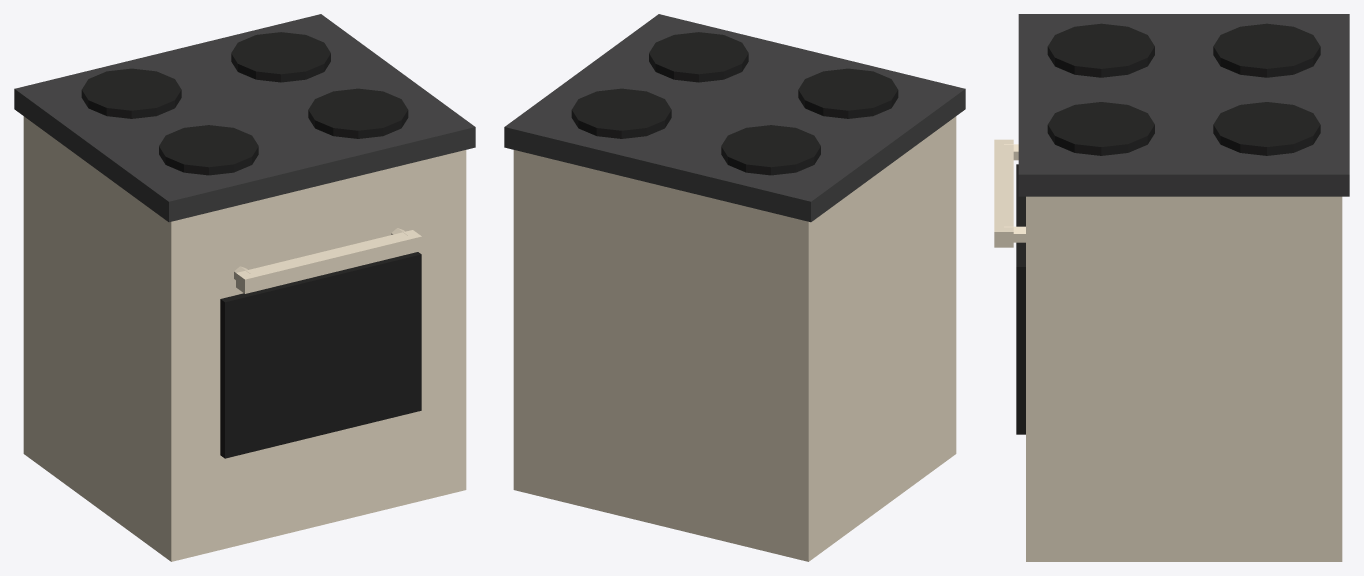
3 views of the same model, side by side, from view 1: azimuth 30°, elevation 25°; view 2: azimuth 150°, elevation 25°; view 3: azimuth 270°, elevation 25° (orthographic). The views are drawn at different scales.
Parts seen in each view (by area): view 1: Stove, Hob, Oven window, Door handle, Burner.001, Burner.002, Burner, Burner.003; view 2: Stove, Hob, Burner, Burner.003, Burner.001, Burner.002; view 3: Stove, Hob, Burner.001, Burner.002, Burner, Burner.003, Oven window, Door handle.
Part boxes in pixels (x1,y1,x2,y2): Stove: (23, 116, 466, 561); Hob: (14, 14, 475, 222); Oven window: (220, 252, 421, 458); Door handle: (236, 230, 421, 293); Burner.001: (81, 68, 181, 118); Burner.002: (308, 88, 408, 138); Burner: (159, 125, 258, 175); Burner.003: (231, 32, 330, 82); Stove: (513, 116, 956, 561); Hob: (504, 14, 965, 222); Burner: (798, 68, 898, 118); Burner.003: (571, 88, 671, 138); Burner.001: (721, 125, 820, 175); Burner.002: (649, 32, 748, 82); Stove: (1026, 196, 1342, 561); Hob: (1018, 14, 1349, 196); Burner.001: (1213, 23, 1320, 77); Burner.002: (1047, 102, 1154, 155); Burner: (1047, 23, 1154, 77); Burner.003: (1213, 102, 1320, 155); Oven window: (1016, 164, 1025, 434); Door handle: (994, 139, 1013, 247).
Size of the model in its own units: 78 by 90.5 by 73.
